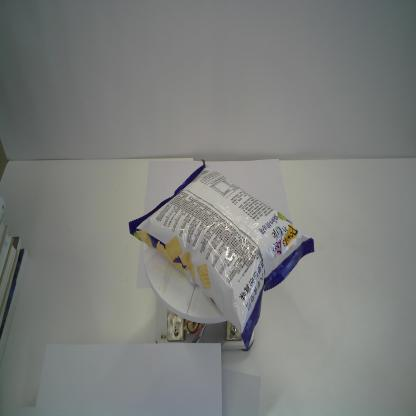Puffed Food: (128, 156, 318, 353)
